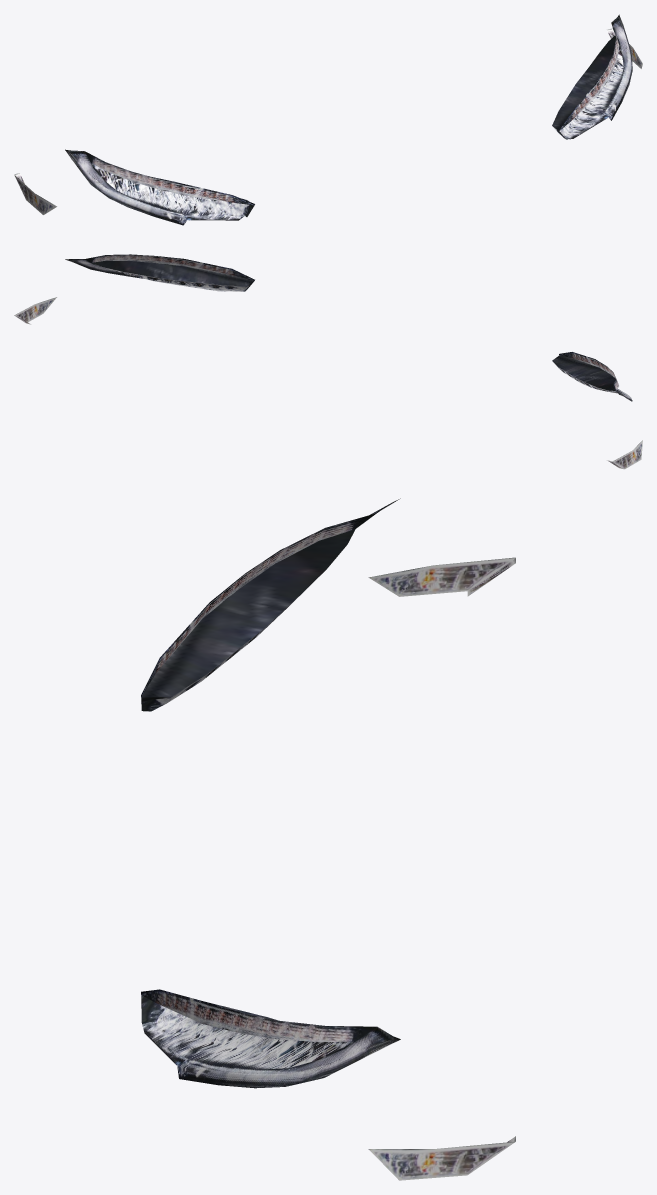
The model's file is Honda_Civic_Front_Light.glb.
3 renders of one model, top to bottom at view 1: azimuth 30°, elevation 25°; view 2: azimuth 150°, elevation 25°; view 3: azimuth 270°, elevation 25°, orthographic. The views are drawn at different scales.
Visible parts, largest first — view 1: Mesh_Honda_Civic_Front_Light; view 2: Mesh_Honda_Civic_Front_Light; view 3: Mesh_Honda_Civic_Front_Light.
Part boxes in pixels (left/top/right/bottom): Mesh_Honda_Civic_Front_Light: left=14, top=14, right=642, bottom=225; Mesh_Honda_Civic_Front_Light: left=14, top=254, right=642, bottom=469; Mesh_Honda_Civic_Front_Light: left=141, top=498, right=515, bottom=1180.
Bounding box in the file's own units: 91.61 × 8.77 × 24.86.
Materials: 1 (1 with a texture image).
